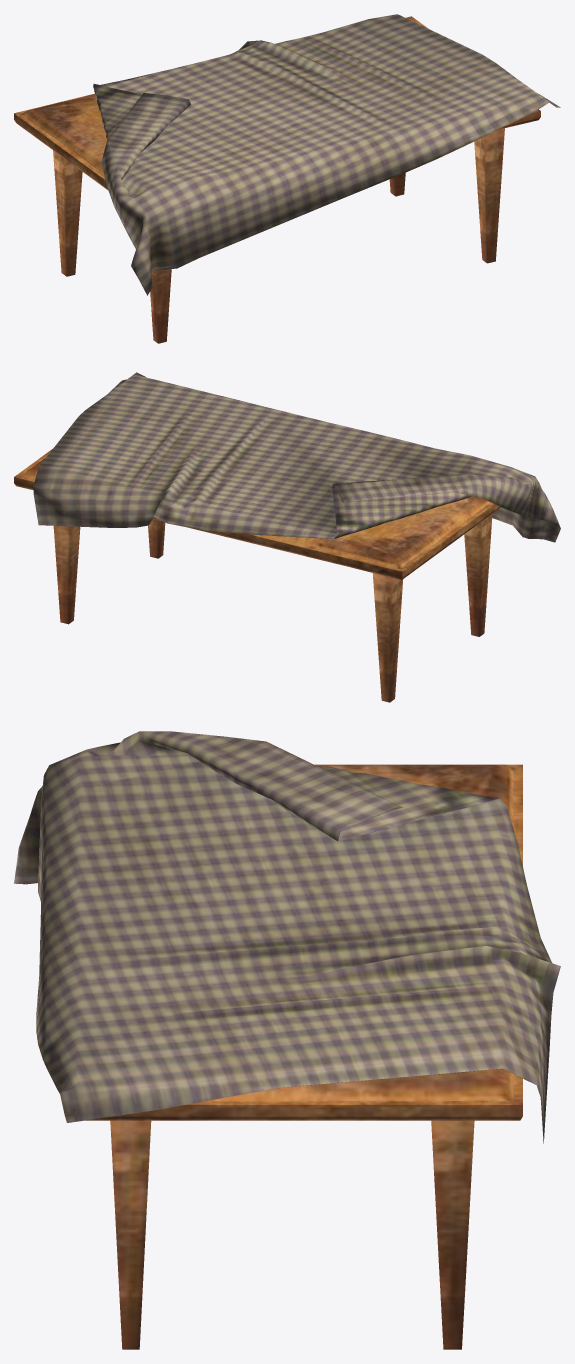
Rendered from dining_table.glb.
The picture shows the model from 3 angles, top to bottom: view 1: azimuth 30°, elevation 25°; view 2: azimuth 150°, elevation 25°; view 3: azimuth 270°, elevation 25°; orthographic projection. The views are drawn at different scales.
Visible parts, largest first — view 1: dining_table_cloth, dining_table; view 2: dining_table_cloth, dining_table; view 3: dining_table_cloth, dining_table.
Part boxes in pixels (bbox=[...]): dining_table_cloth: bbox=[93, 14, 560, 295]; dining_table: bbox=[14, 16, 540, 343]; dining_table_cloth: bbox=[33, 372, 560, 542]; dining_table: bbox=[14, 448, 501, 702]; dining_table_cloth: bbox=[14, 731, 560, 1143]; dining_table: bbox=[85, 764, 522, 1349].
Bounding box in the file's own units: 2.26 × 0.877 × 1.39.
Materials: 1 (1 with a texture image).
